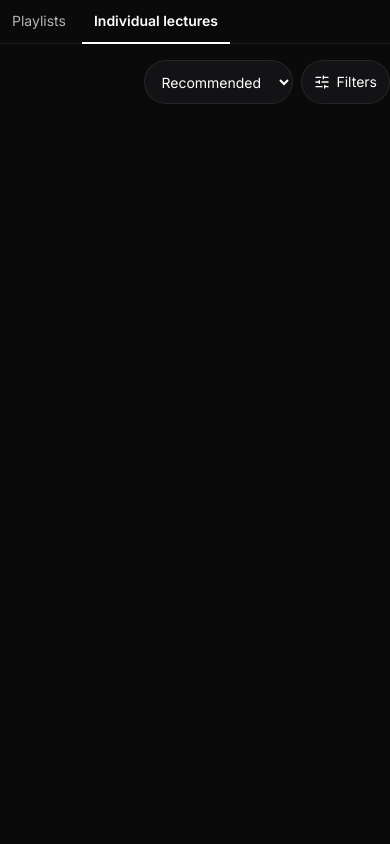
Scenario: the mobile filter drawer's Show button › offers no lesson count when the lectures request failed
Click the button "Filters".
click(346, 82)  # box [302,60,389,104]
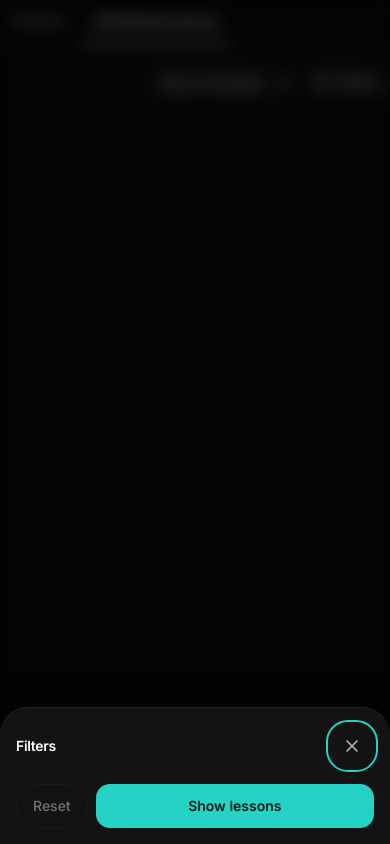
Expected: the button "Show lessons" is shown, [96,784,374,828]
